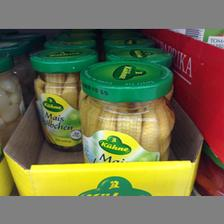Mais: (80, 60, 172, 162), (30, 48, 97, 148)
